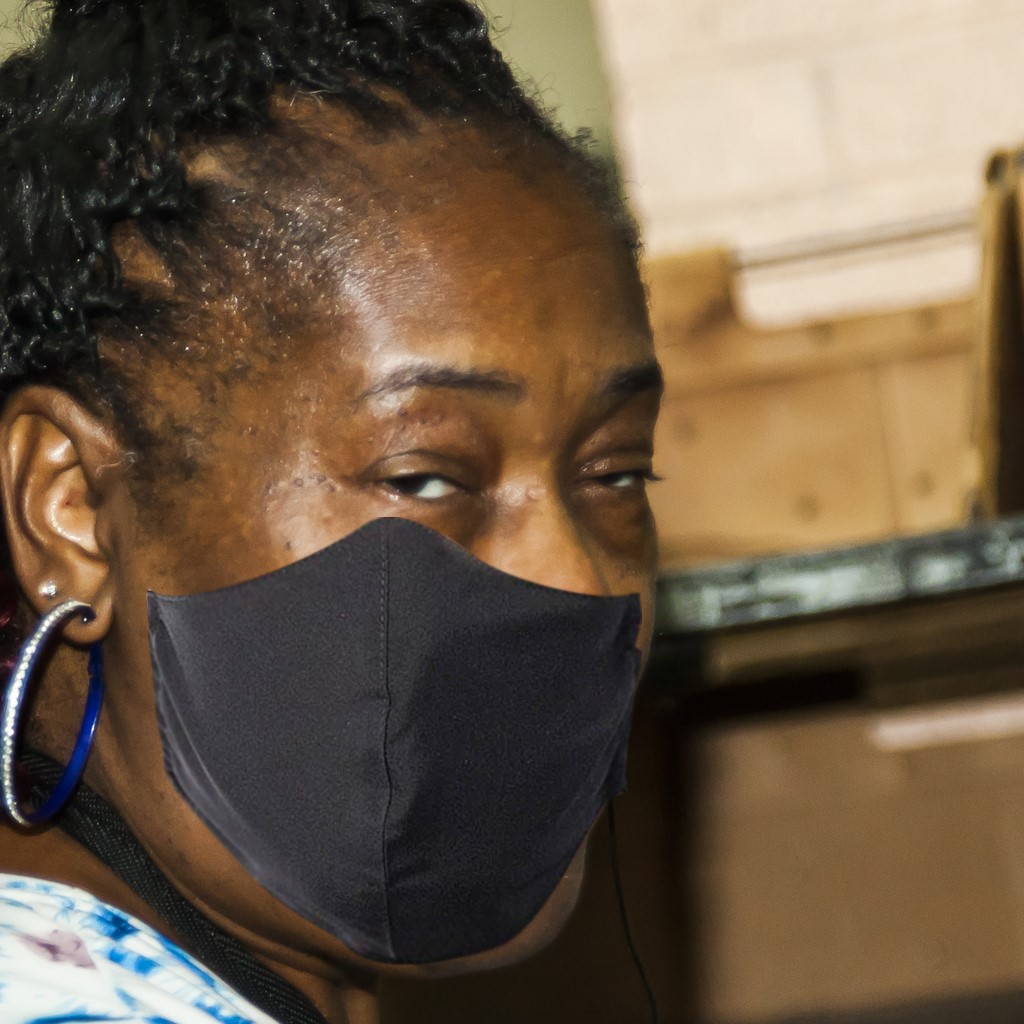con_mascara: (54, 120, 657, 977)
